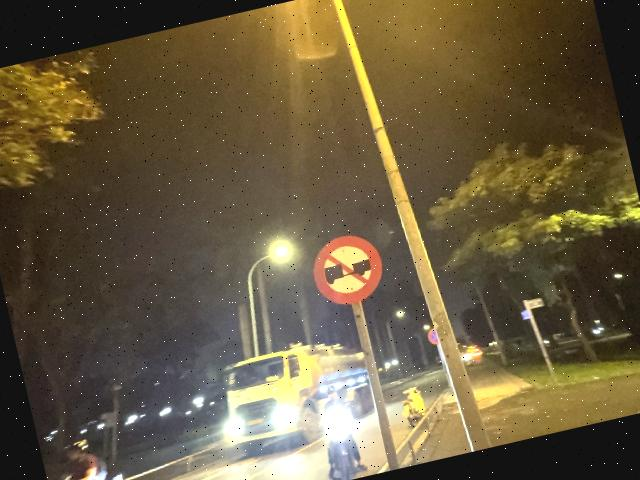cam-xe-somi-romooc: (306, 227, 390, 312)
